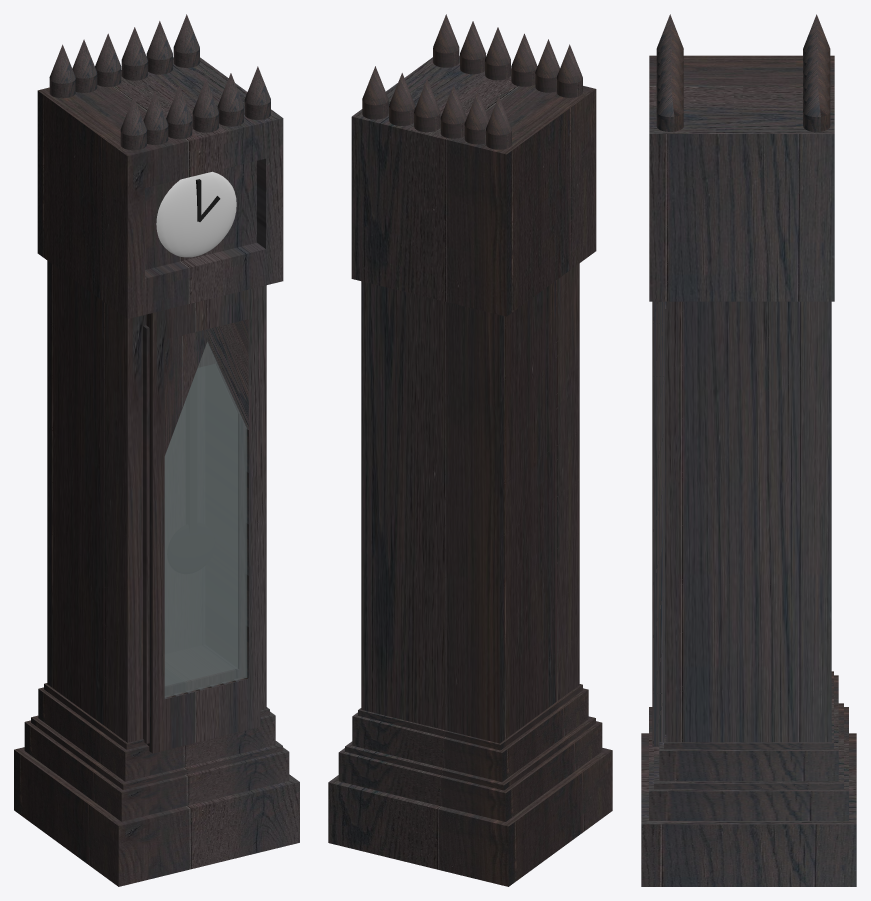
The model's file is grandfatherclock.fbx.
3 views of the same model, side by side, from view 1: azimuth 30°, elevation 25°; view 2: azimuth 150°, elevation 25°; view 3: azimuth 270°, elevation 25° (orthographic). The views are drawn at different scales.
Parts seen in each view (by area): view 1: pCube11, pCube6, pCube17, pCube7, pSphere2; view 2: pCube6, pCube11, pCube7; view 3: pCube6, pCube11, pCube7, pCube17.
Boxes of the visible parts, x1,y1,x2,y2 form: pCube11: (37, 14, 283, 318); pCube6: (47, 261, 266, 743); pCube17: (146, 286, 260, 753); pCube7: (14, 683, 299, 886); pSphere2: (156, 171, 236, 257); pCube6: (361, 263, 579, 743); pCube11: (351, 14, 596, 316); pCube7: (328, 684, 612, 886); pCube6: (665, 301, 831, 742); pCube11: (649, 14, 834, 301); pCube7: (641, 671, 856, 886); pCube17: (652, 301, 664, 746).
Bounding box in the file's own units: 2.58 × 10.52 × 2.58.
